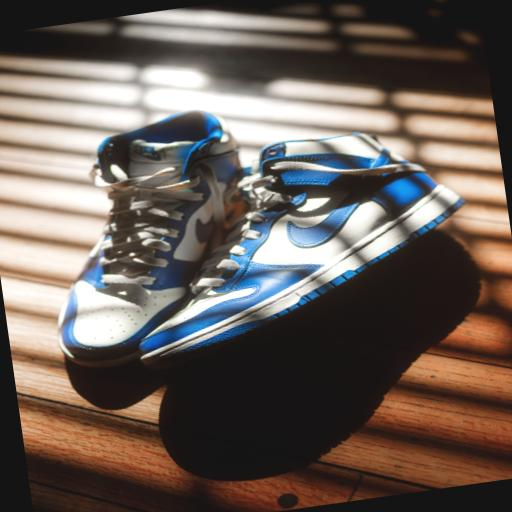shoe: (140, 134, 462, 369), (58, 111, 239, 366)
